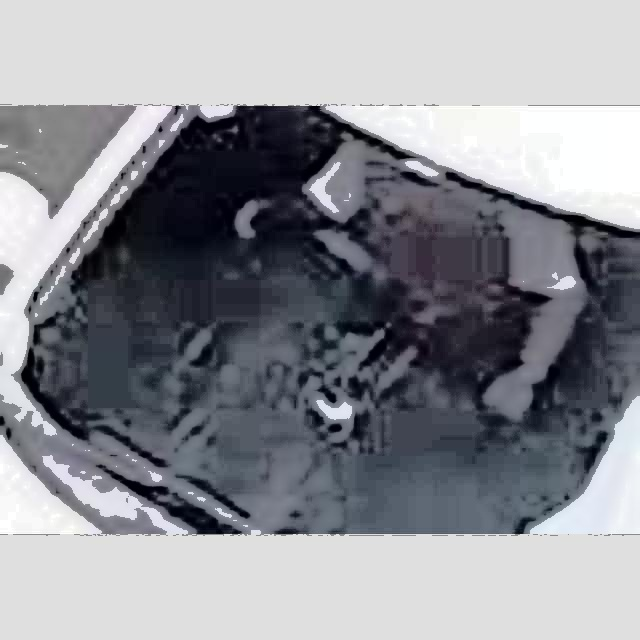tidak-pakai: (287, 166, 542, 372)
